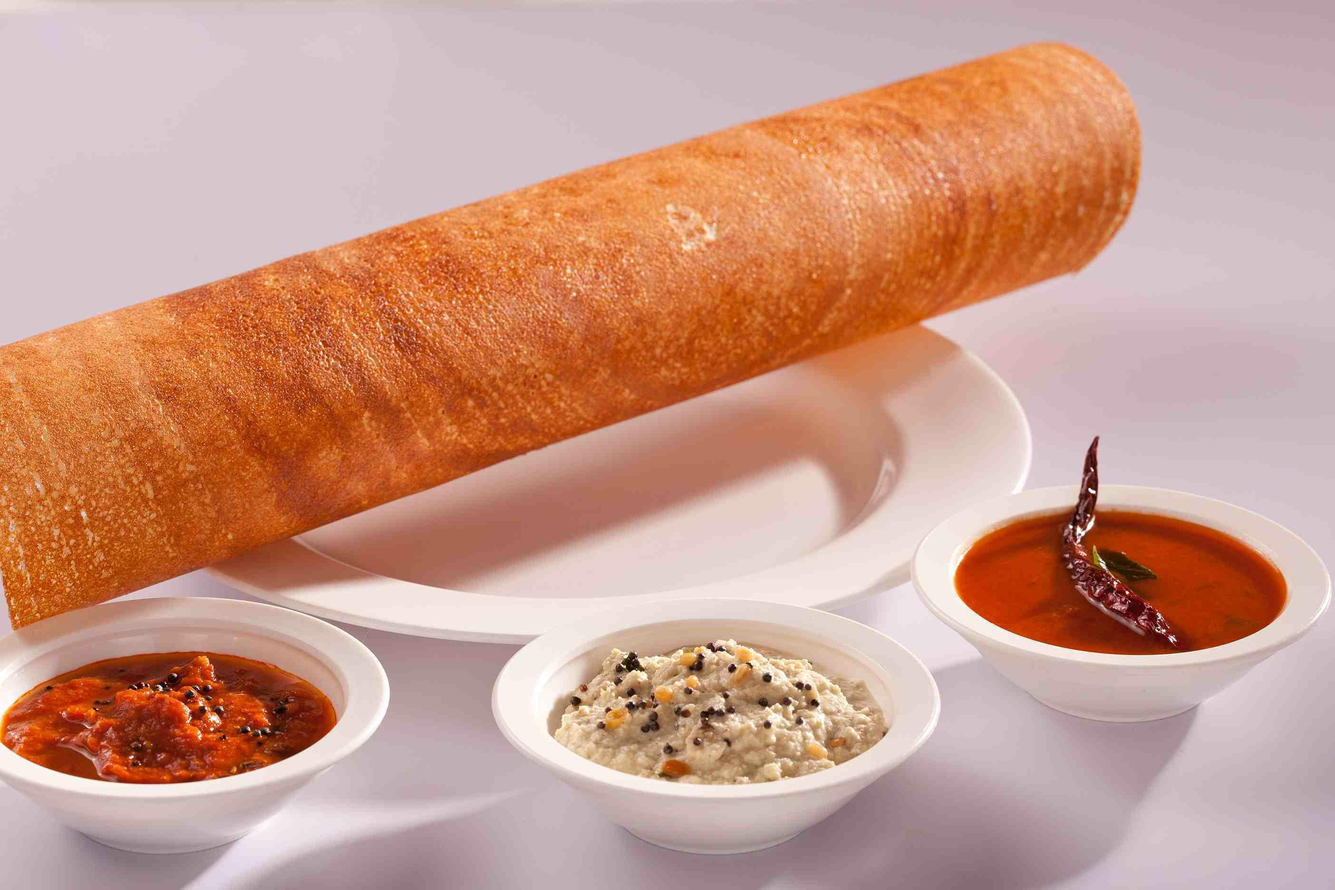CoconutChutney: (552, 641, 885, 785)
Dosa: (0, 42, 1139, 632)
